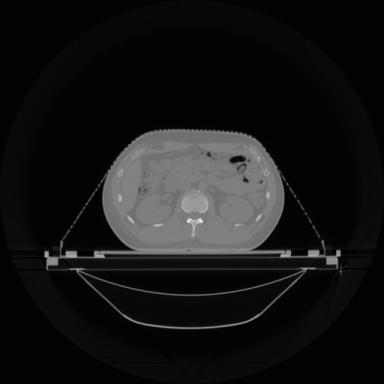body: (103, 130, 284, 250)
cord: (182, 190, 208, 213), (187, 218, 203, 237)
